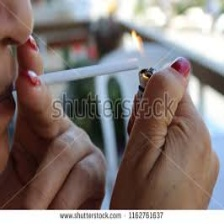fire: (130, 29, 150, 59)
